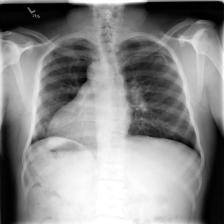normal: (25, 30, 204, 165)
